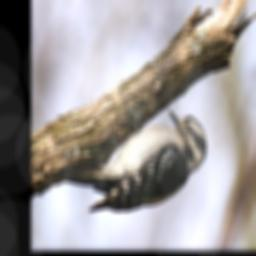Woodpecker: (63, 106, 217, 222)
